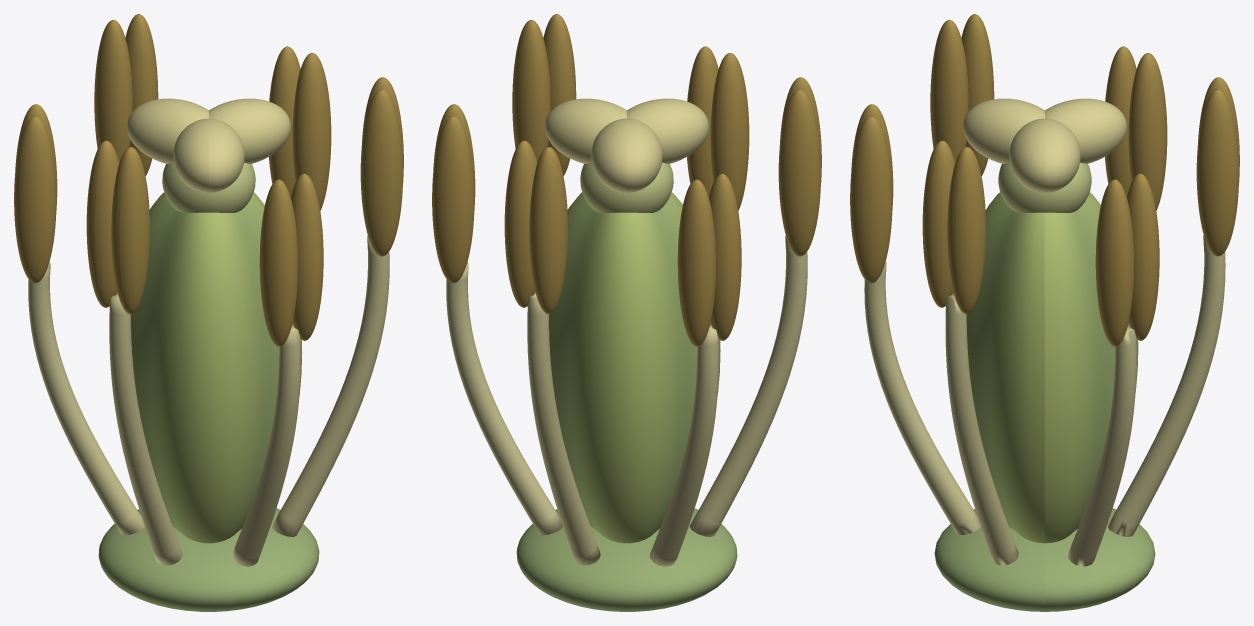
The model's file is tulipan_vnutro.glb.
3 views of the same model, side by side, from view 1: azimuth 30°, elevation 25°; view 2: azimuth 150°, elevation 25°; view 3: azimuth 270°, elevation 25° (orthographic).
Parts seen in each view (by area): view 1: part_19, part_0, part_1, part_10, part_7, part_4, part_11, part_3, part_8, part_6, part_18, part_22 (+10 smaller); view 2: part_19, part_0, part_7, part_16, part_13, part_10, part_17, part_9, part_14, part_12, part_6, part_23 (+10 smaller); view 3: part_19, part_0, part_13, part_4, part_1, part_16, part_5, part_15, part_2, part_18, part_12, part_21 (+10 smaller).
Boxes of the visible parts, box(x1,y1,x2,y2) form: part_19: box(131, 192, 301, 543); part_0: box(98, 508, 319, 611); part_1: box(271, 235, 389, 536); part_10: box(28, 262, 144, 535); part_7: box(109, 292, 182, 565); part_4: box(231, 324, 300, 566); part_11: box(14, 116, 56, 283); part_3: box(360, 89, 403, 256); part_8: box(111, 147, 149, 314); part_6: box(259, 179, 297, 346); part_18: box(292, 53, 331, 210); part_22: box(173, 118, 244, 192); part_19: box(549, 192, 720, 543); part_0: box(516, 508, 737, 611); part_7: box(689, 235, 807, 536); part_16: box(446, 262, 562, 535); part_13: box(527, 292, 600, 565); part_10: box(650, 324, 718, 566); part_17: box(432, 116, 474, 283); part_9: box(778, 89, 821, 256); part_14: box(529, 147, 567, 314); part_12: box(677, 179, 715, 346); part_6: box(710, 53, 749, 210); part_23: box(591, 118, 662, 192); part_19: box(966, 192, 1138, 543); part_0: box(934, 508, 1155, 611); part_13: box(1108, 235, 1225, 536); part_4: box(864, 262, 980, 534); part_1: box(945, 292, 1018, 565); part_16: box(1068, 324, 1136, 566); part_5: box(850, 116, 892, 283); part_15: box(1196, 89, 1238, 256); part_2: box(947, 147, 985, 314); part_18: box(1095, 179, 1133, 346); part_12: box(1128, 53, 1167, 210); part_21: box(1009, 118, 1080, 192).
Size of the model in its own units: 0.1482 by 0.2303 by 0.1606.
